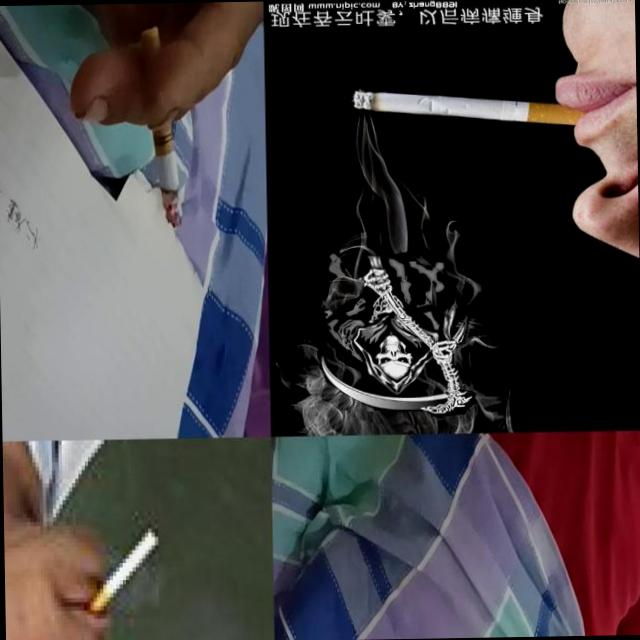smoke: (352, 86, 592, 132), (140, 24, 184, 228), (84, 526, 162, 620)
